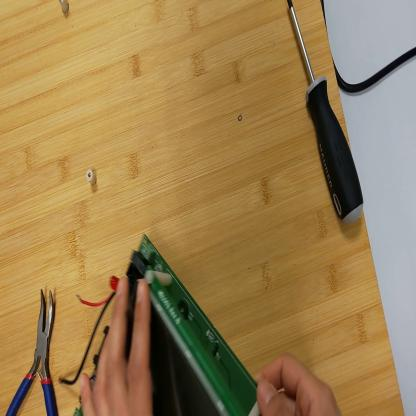hand: (79, 274, 157, 415), (254, 358, 339, 416)
low voltage board: (60, 229, 259, 415)
pliers: (6, 291, 58, 415)
screwdriver-: (288, 2, 365, 229)
working area: (2, 2, 406, 415)
